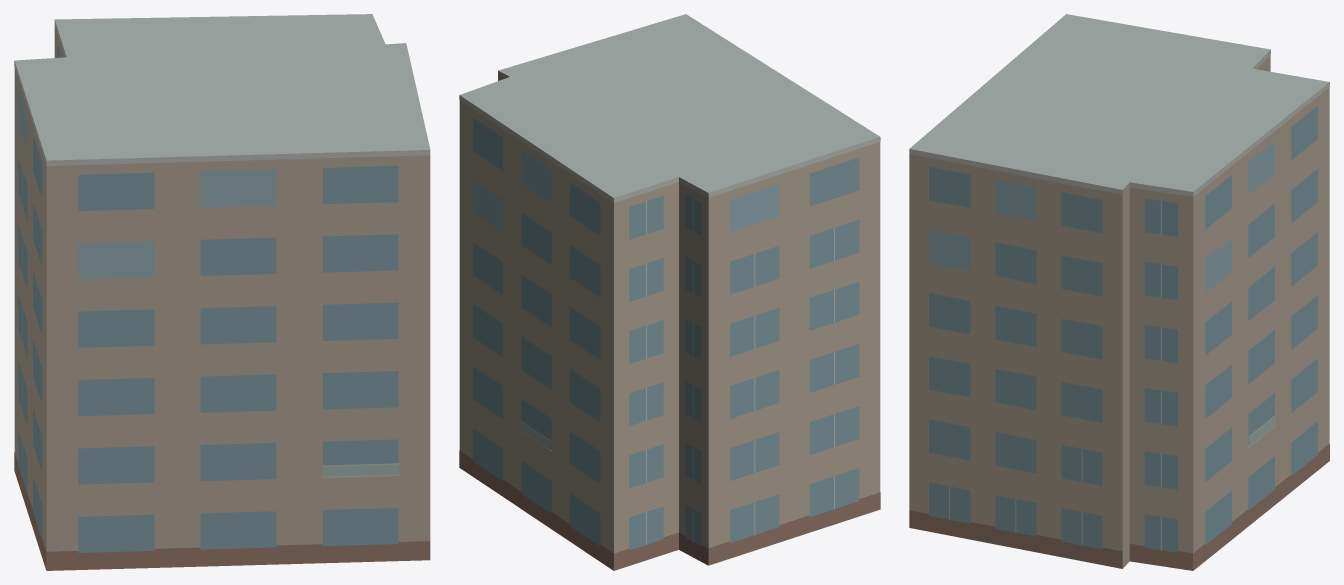
File: survey-upis-32574719.glb
3 renders of one model, left to right at view 1: azimuth 30°, elevation 25°; view 2: azimuth 150°, elevation 25°; view 3: azimuth 270°, elevation 25°, orthographic. The views are drawn at different scales.
Parts seen in each view (by area): view 1: survey-upis-32574719.tmp; view 2: survey-upis-32574719.tmp; view 3: survey-upis-32574719.tmp.
Part boxes in pixels (<box>): survey-upis-32574719.tmp: <box>14,14,430,570</box>; survey-upis-32574719.tmp: <box>459,14,880,570</box>; survey-upis-32574719.tmp: <box>909,14,1329,570</box>.
Size of the model in its own units: 18.43 by 18.3 by 18.41.
